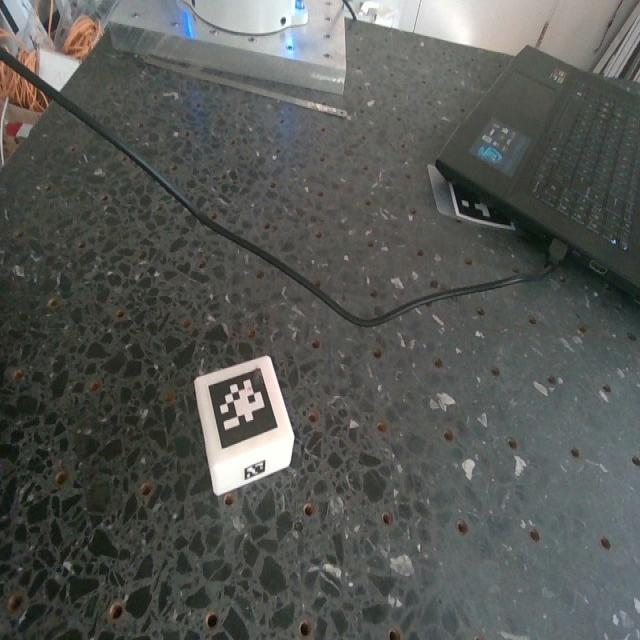Cube: (193, 356, 295, 504)
